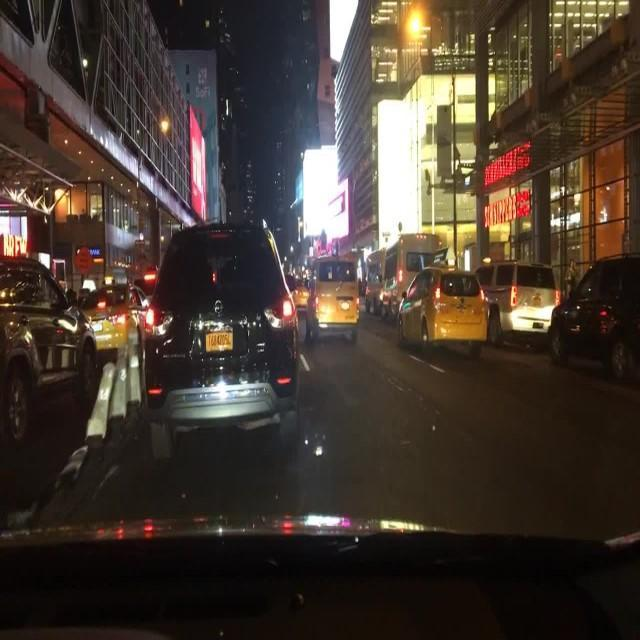normal: (145, 226, 304, 447), (0, 258, 100, 528), (548, 255, 640, 386), (394, 266, 490, 351), (472, 262, 561, 347), (358, 230, 442, 318), (70, 281, 146, 363), (310, 252, 362, 341)
